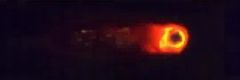keyhole: (168, 28, 184, 47)
